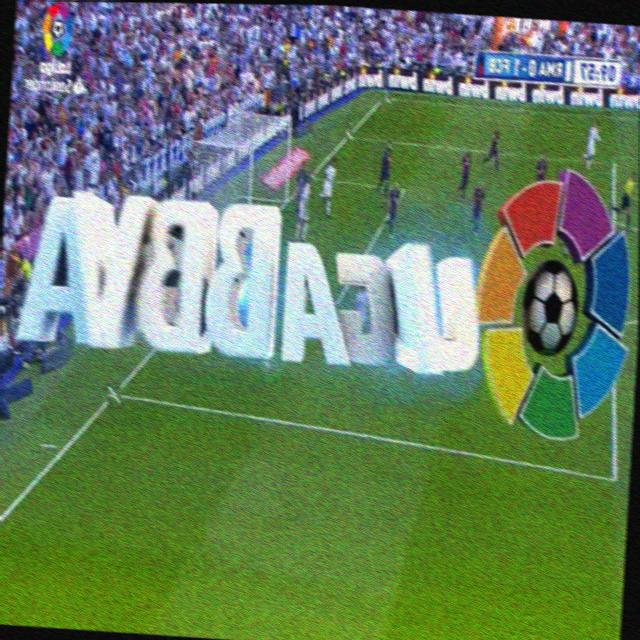bigarea_top_inner: (611, 155, 617, 169)
bigarea_top_outter: (345, 129, 353, 141)
bottom_arc_area_intersection: (107, 381, 121, 406)
corner: (379, 91, 390, 103)
smallarea_top_outter: (306, 171, 314, 183)
